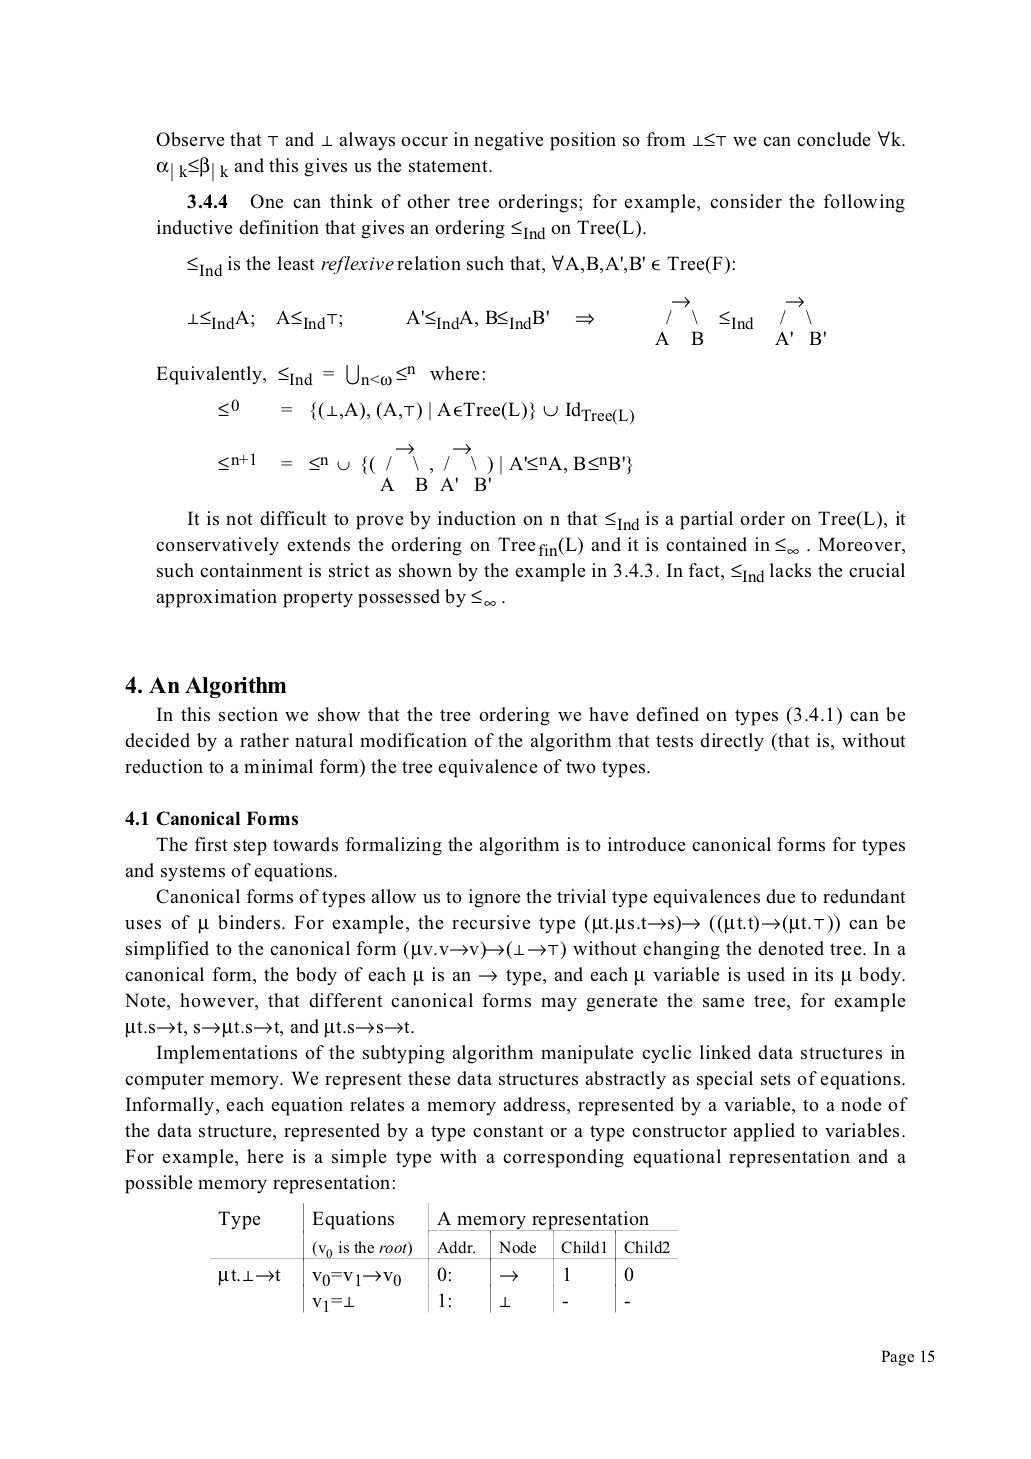Table: (209, 1202, 678, 1313)
formula: (187, 297, 825, 344), (218, 444, 632, 490), (218, 398, 633, 425)
